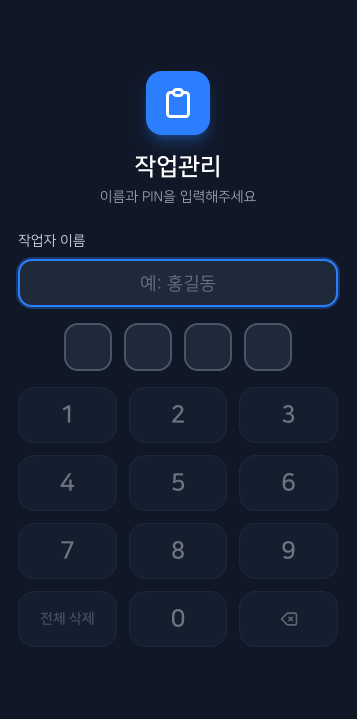
Test: WorkerLoginPage › 로그인 실패 후 타이틀 안내 아래에 관리자 문의 안내를 표시한다
Type "김재현" into the field labelled "작업자 이름". click: (178, 283)
box: x1=18 y1=259 x2=338 y2=307
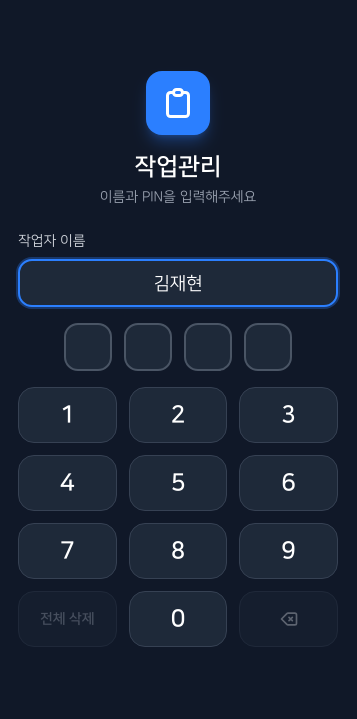
Click the button "1". click: (67, 415)
box: x1=18 y1=387 x2=117 y2=443
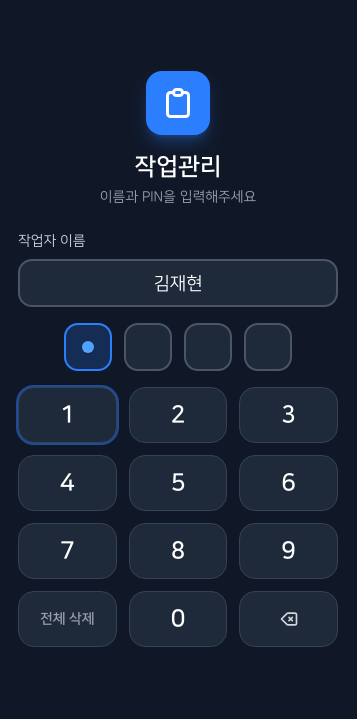
Click the button "2". click: (178, 415)
box: x1=129 y1=387 x2=227 y2=443
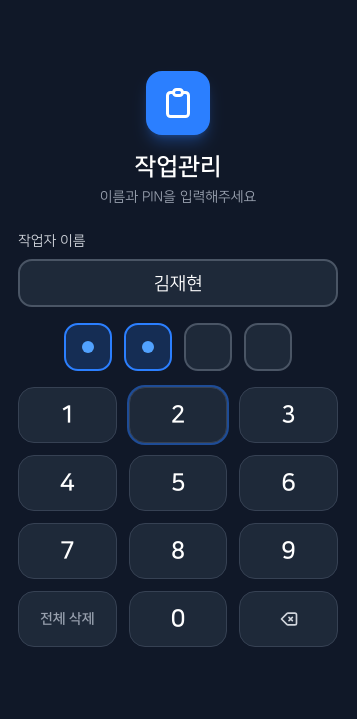
Click the button "3". click: (289, 415)
box: x1=239 y1=387 x2=338 y2=443
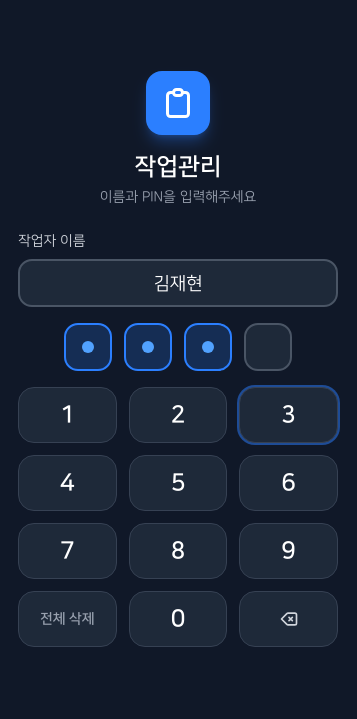
Click the button "4". click: (67, 483)
box: x1=18 y1=455 x2=117 y2=511
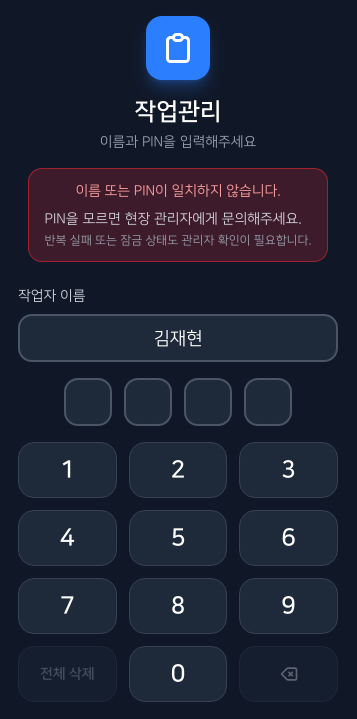
Check: the text "이름 또는 PIN이 일치하지 않습니다." is shown, box x1=75 y1=183 x2=281 y2=198
Check: the text "PIN을 모르면 현장 관리자에게 문의해주세요." is shown, box x1=45 y1=209 x2=311 y2=229
